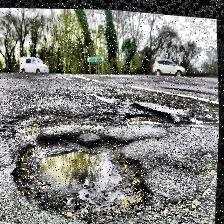pothole: (10, 120, 160, 224), (122, 103, 176, 130), (186, 103, 220, 123)
